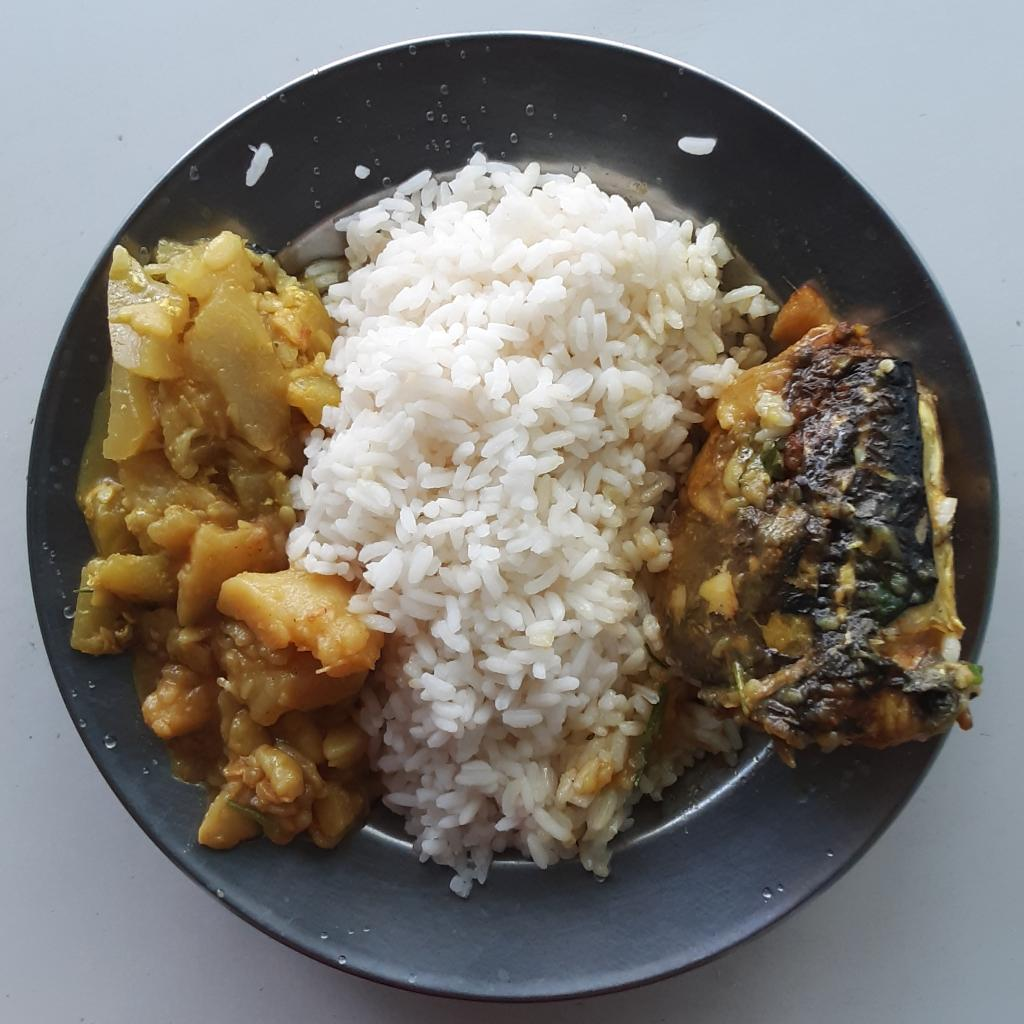fish: (644, 280, 983, 749)
lau: (69, 232, 337, 660)
potato: (136, 483, 386, 852)
rice: (285, 152, 781, 906)
